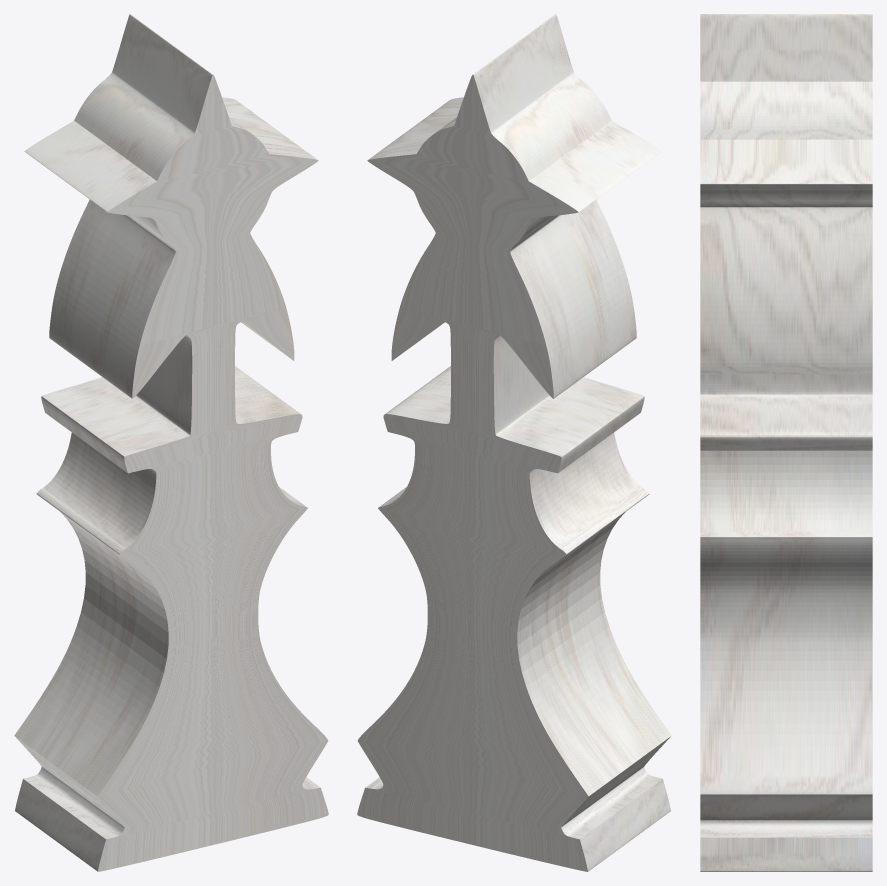
File: iniziativa.glb
3 views of the same model, side by side, from view 1: azimuth 30°, elevation 25°; view 2: azimuth 150°, elevation 25°; view 3: azimuth 270°, elevation 25° (orthographic). The views are drawn at different scales.
Visible parts, largest first — view 1: path2.001; view 2: path2.001; view 3: path2.001.
Part boxes in pixels (left/top/right/bottom): path2.001: left=14, top=14, right=328, bottom=871; path2.001: left=357, top=14, right=671, bottom=871; path2.001: left=700, top=14, right=872, bottom=871.
Size of the model in its own units: 1.29 by 4.1 by 0.8.
1 material, 1 textured.
